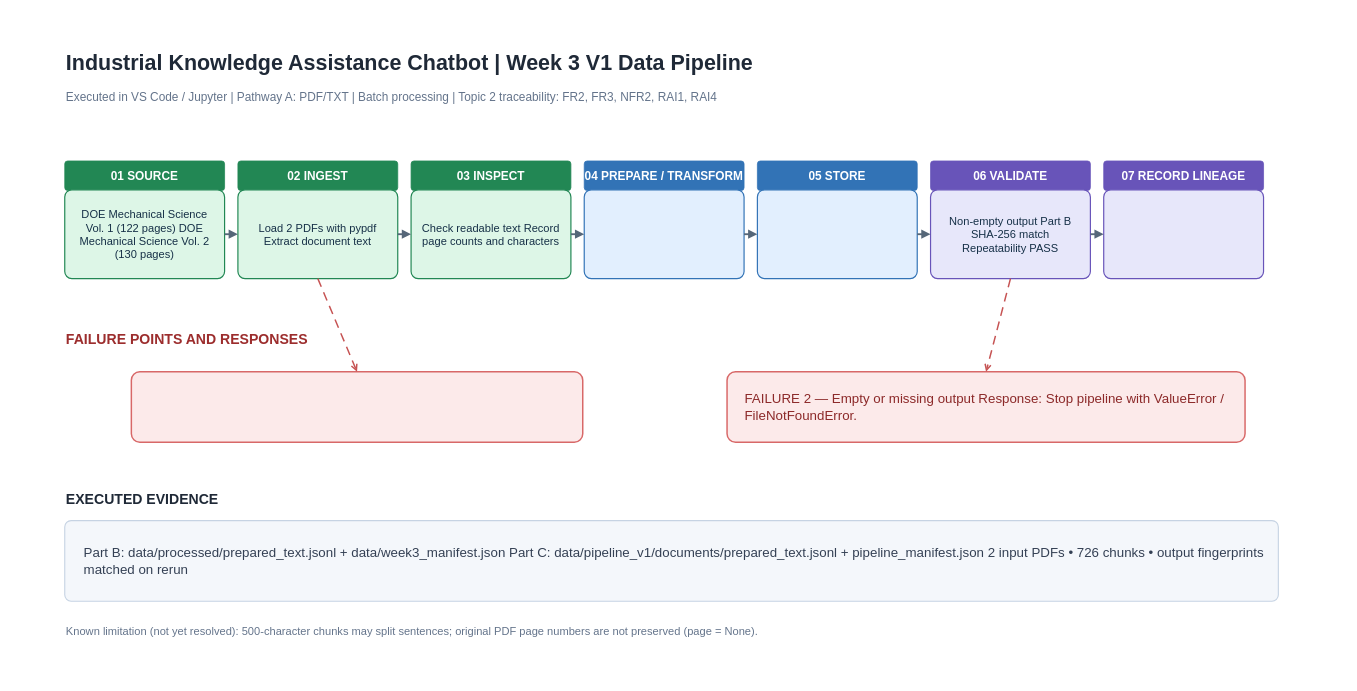
Some shapes in this 1357 by 691 pixel diagram are drawn without their labels. The centre of each missing label's shape, as x and y in pixels:
FAILURE 1 — Missing PDF source Response: Stop pipeline with FileNotFoundError.: [356,407]
Normalize spaces and tabs Paragraph-aware chunks (500 chars): [663,234]
Source and output SHA-256 pipeline_manifest.json: [1183,234]
Write prepared_text.jsonl 726 chunks across 2 sources: [836,234]
